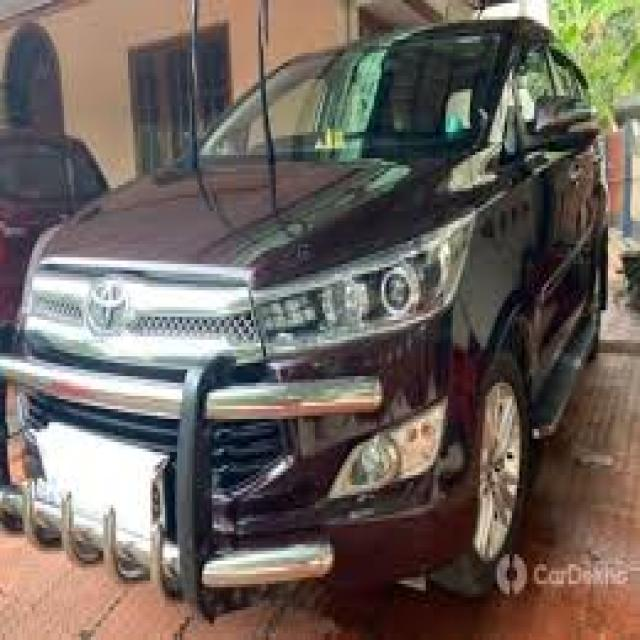light_vehicle: (0, 16, 608, 622), (0, 128, 110, 352)
